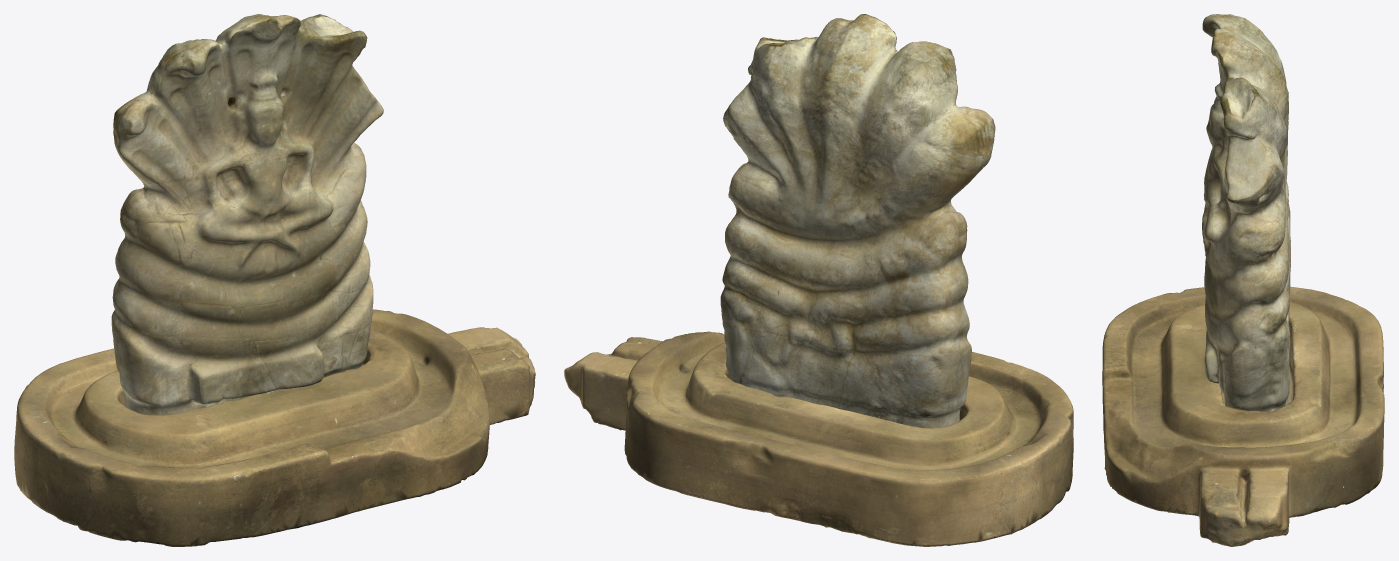
The model's file is MysonMuseum_warehousetuonglinga_final.glb.
The picture shows the model from 3 angles, left to right: view 1: azimuth 30°, elevation 25°; view 2: azimuth 150°, elevation 25°; view 3: azimuth 270°, elevation 25°; orthographic projection. The views are drawn at different scales.
Bounding box in the file's own units: 1.08 × 0.9502 × 0.6105.
Materials: 2 (2 with a texture image).
